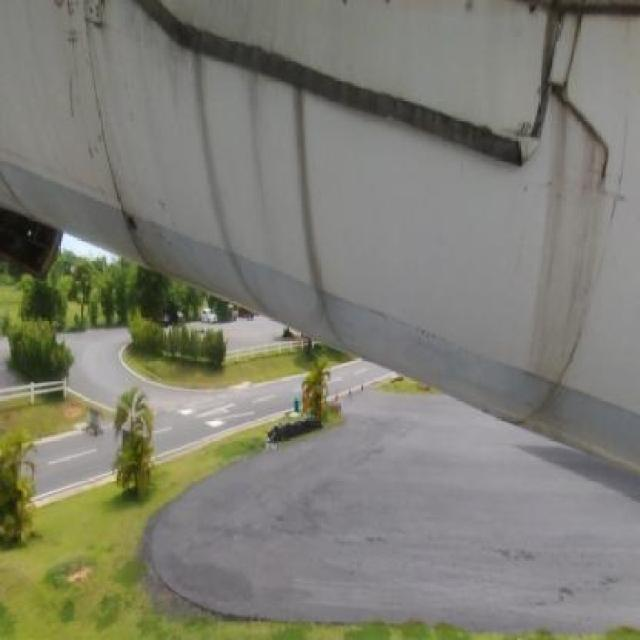Rust: (517, 44, 617, 458), (171, 37, 278, 335), (278, 77, 360, 355), (93, 139, 153, 267), (523, 0, 639, 43), (43, 1, 125, 42), (48, 68, 98, 121)
